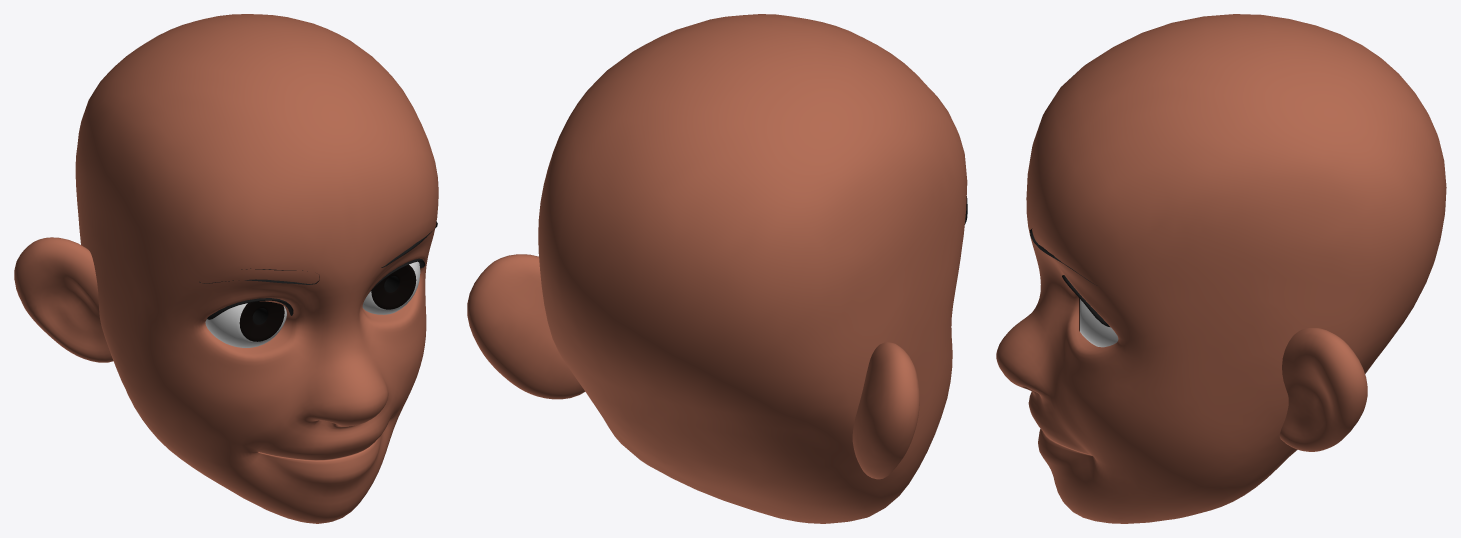
3 renders of one model, left to right at view 1: azimuth 30°, elevation 25°; view 2: azimuth 150°, elevation 25°; view 3: azimuth 270°, elevation 25°, orthographic. The views are drawn at different scales.
Visible parts, largest first — view 1: skin, eyes.001, eyes; view 2: skin; view 3: skin, eyes.
Boxes of the visible parts, <box> form: skin: <box>14,14,438,523</box>; eyes.001: <box>205,301,286,347</box>; eyes: <box>362,261,420,314</box>; skin: <box>467,14,967,523</box>; skin: <box>996,14,1446,523</box>; eyes: <box>1079,298,1118,347</box>.
Size of the model in its own units: 1.81 by 2 by 1.7.
